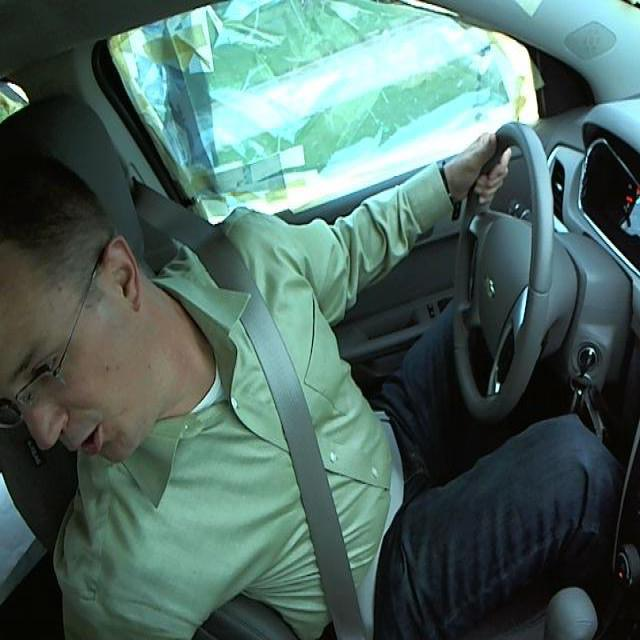seatbelt: (200, 270, 399, 634)
